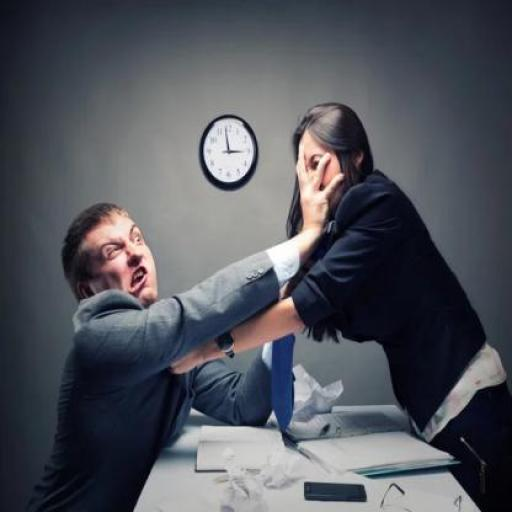Fighting: (38, 105, 512, 512)
